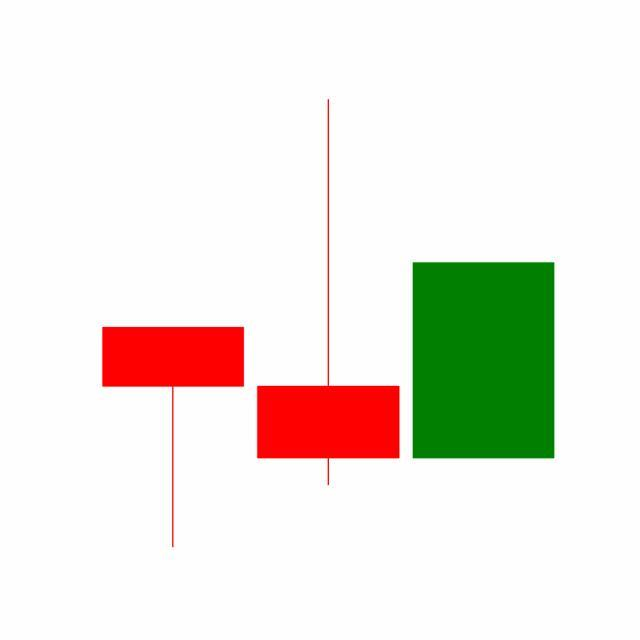Marubozu: (406, 260, 562, 461)
